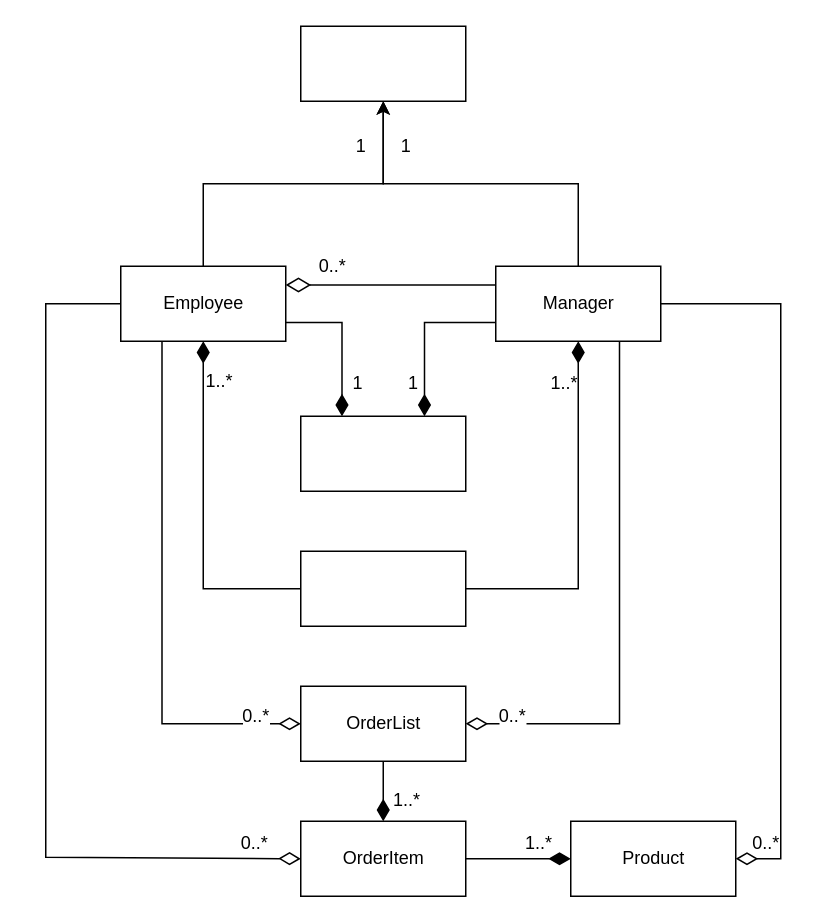
Some shapes in this 828 by 923 pixel diagram are drawn without their labels. Each missing label, with the centre of its shape:
"Branch" goes at pixel 382 453.
"Login" goes at pixel 382 588.
"PersonDetails" goes at pixel 382 63.
